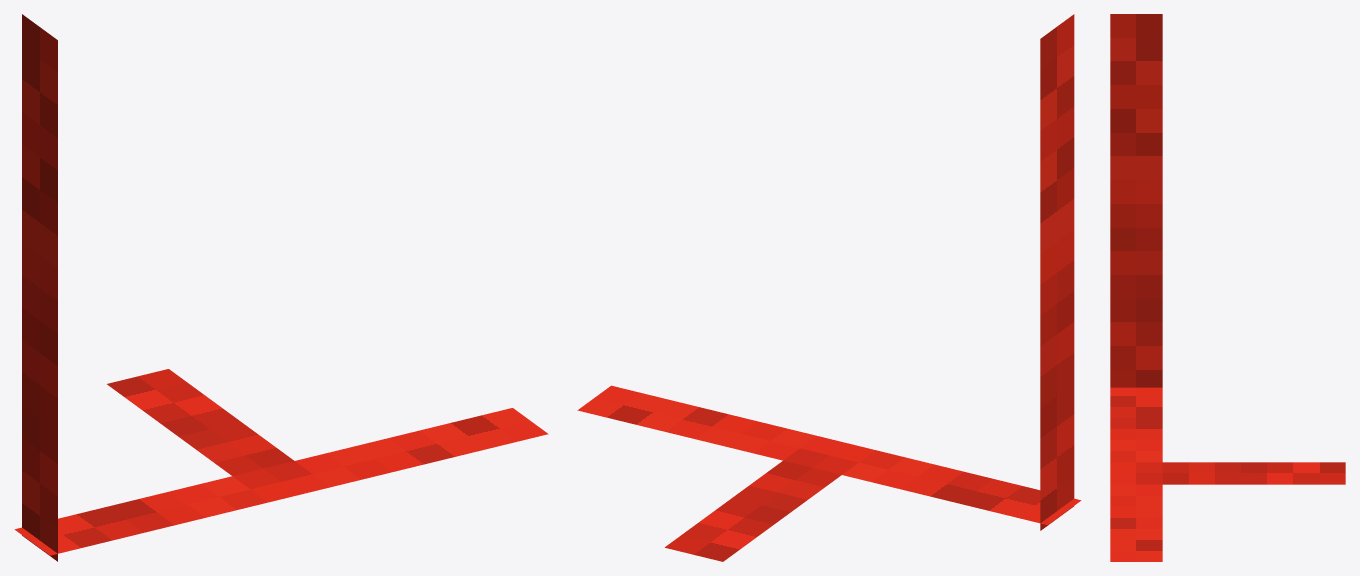
File: dust_on_1201.gltf
The picture shows the model from 3 angles, left to right: view 1: azimuth 30°, elevation 25°; view 2: azimuth 150°, elevation 25°; view 3: azimuth 270°, elevation 25°; orthographic projection. The views are drawn at different scales.
Visible parts, largest first — view 1: dust_on_1201; view 2: dust_on_1201; view 3: dust_on_1201.
Part boxes in pixels (x1,y1,x2,y2): dust_on_1201: [14, 14, 548, 561]; dust_on_1201: [577, 14, 1081, 561]; dust_on_1201: [1110, 14, 1345, 561].
Bounding box in the file's own units: 1 × 1 × 0.5625.
1 material, 1 textured.
